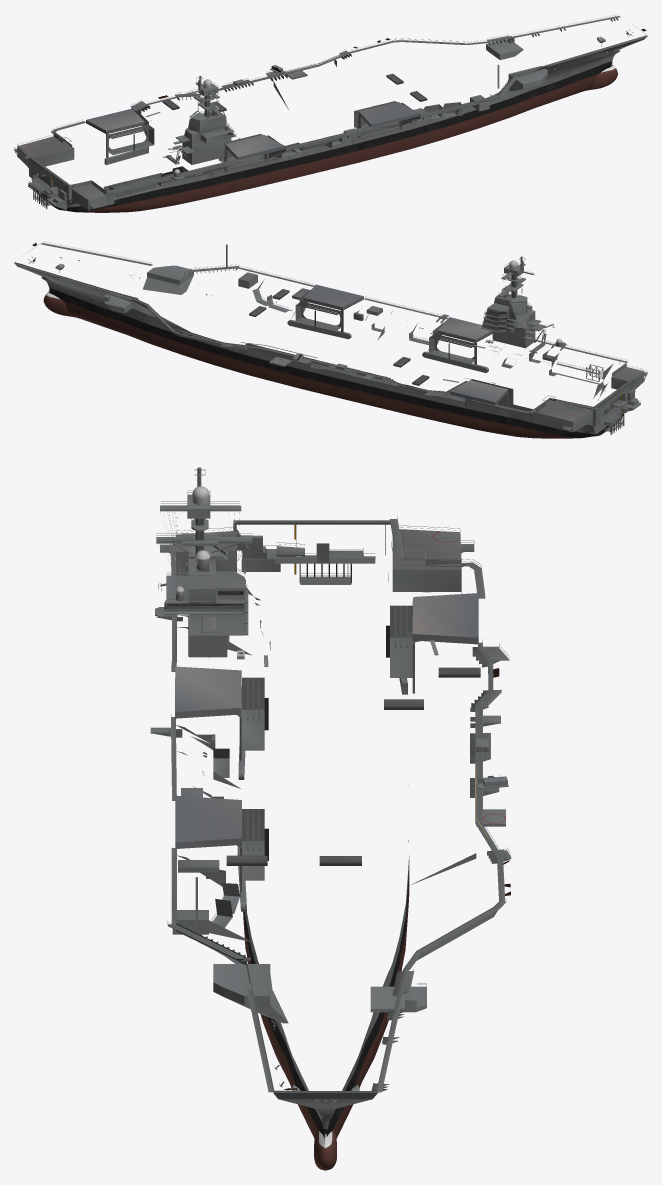
File: ford-far.glb
The picture shows the model from 3 angles, top to bottom: view 1: azimuth 30°, elevation 25°; view 2: azimuth 150°, elevation 25°; view 3: azimuth 270°, elevation 25°; orthographic projection. The views are drawn at different scales.
Size of the model in its own units: 338 by 75.06 by 88.27.
